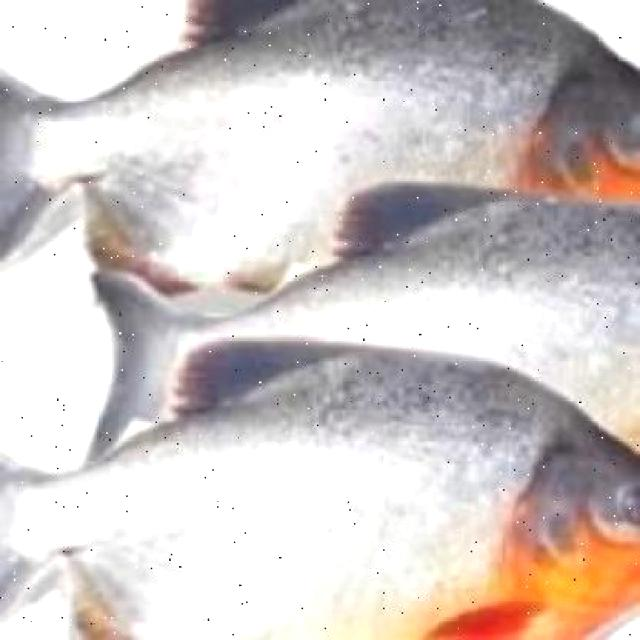ikan-pacu: (1, 352, 634, 640), (3, 0, 640, 262)
